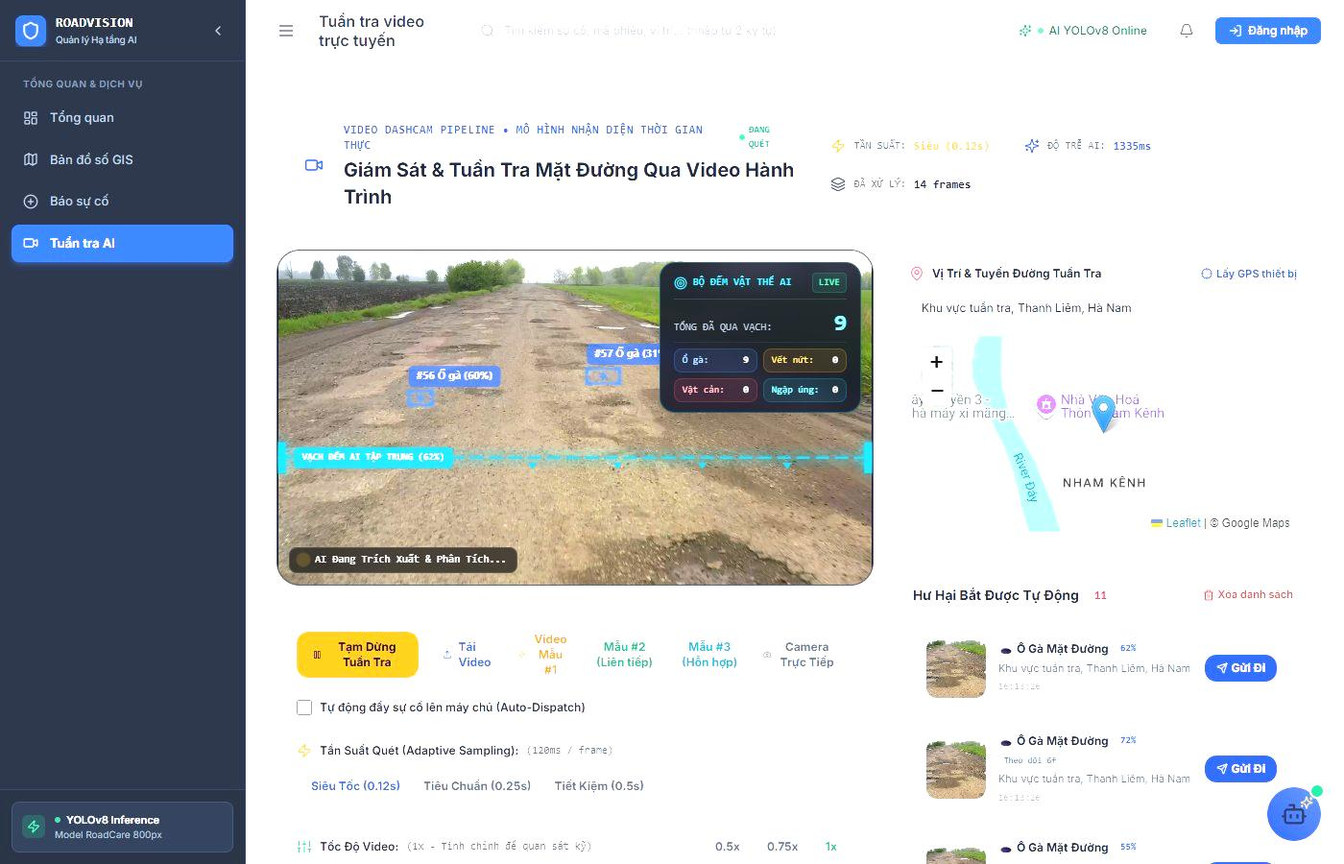POTHOLE: (390, 415, 954, 691)
